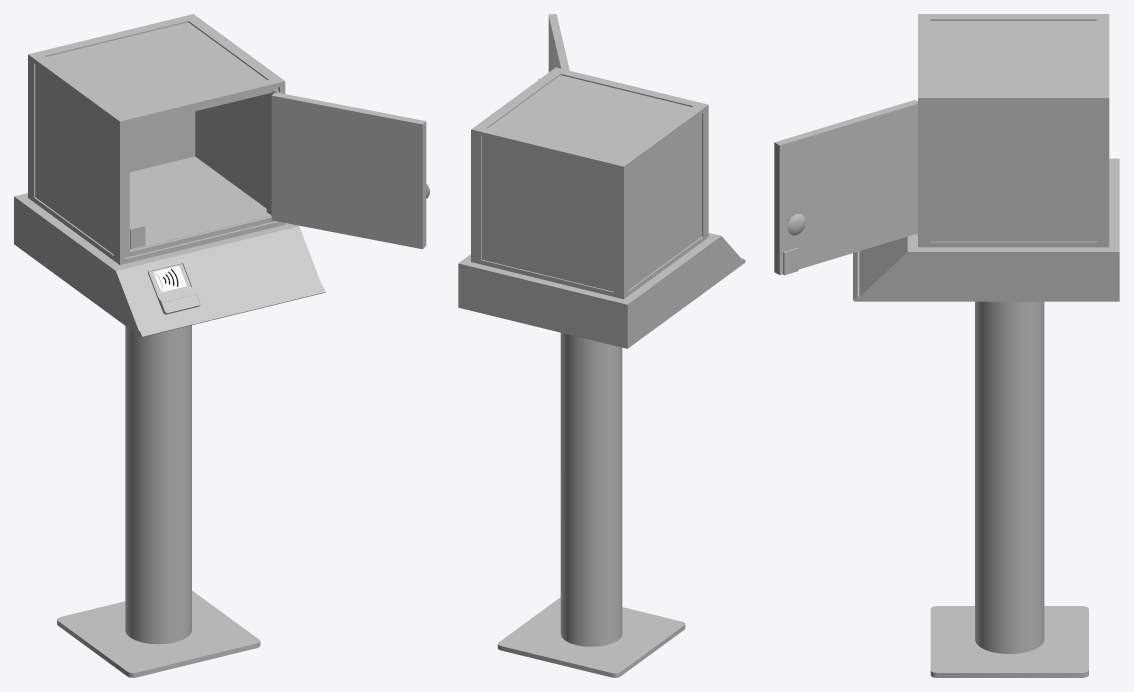
Rendered from Pedestal.fbx.
3 renders of one model, left to right at view 1: azimuth 30°, elevation 25°; view 2: azimuth 150°, elevation 25°; view 3: azimuth 270°, elevation 25°, orthographic. The views are drawn at different scales.
Parts seen in each view (by area): view 1: Pedestal, Cube.001, KeycardIdle; view 2: Pedestal, Cube.001; view 3: Pedestal, Cube.001.
Boxes of the visible parts, bbox=[...] form: Pedestal: bbox=[14, 14, 325, 677]; Cube.001: bbox=[271, 92, 429, 249]; KeycardIdle: bbox=[153, 265, 186, 292]; Pedestal: bbox=[458, 67, 745, 677]; Cube.001: bbox=[538, 14, 569, 79]; Pedestal: bbox=[853, 14, 1119, 677]; Cube.001: bbox=[774, 100, 917, 275].
Bounding box in the file's own units: 1.12 × 2.36 × 1.26.
